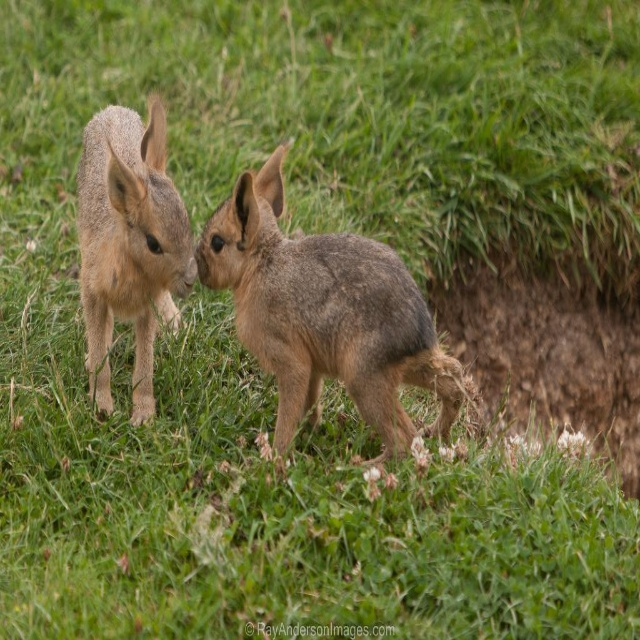Rabbit: (193, 134, 465, 472), (74, 86, 197, 427)
